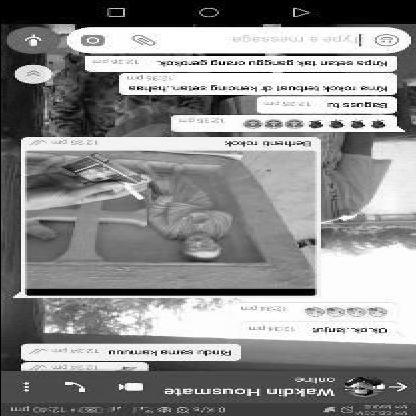objects: (61, 152, 150, 198), (121, 181, 144, 198)
